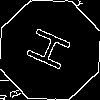H: (25, 25, 81, 77)
